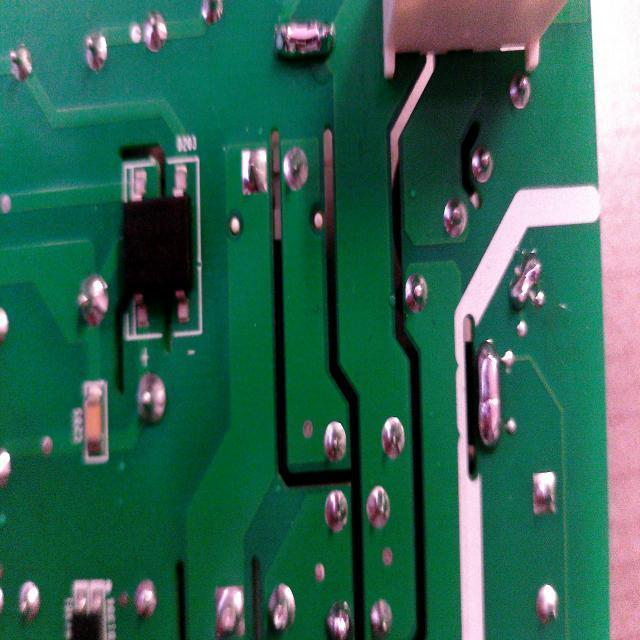Soldering shorted: (470, 339, 510, 457), (268, 12, 338, 72), (506, 245, 548, 321)
